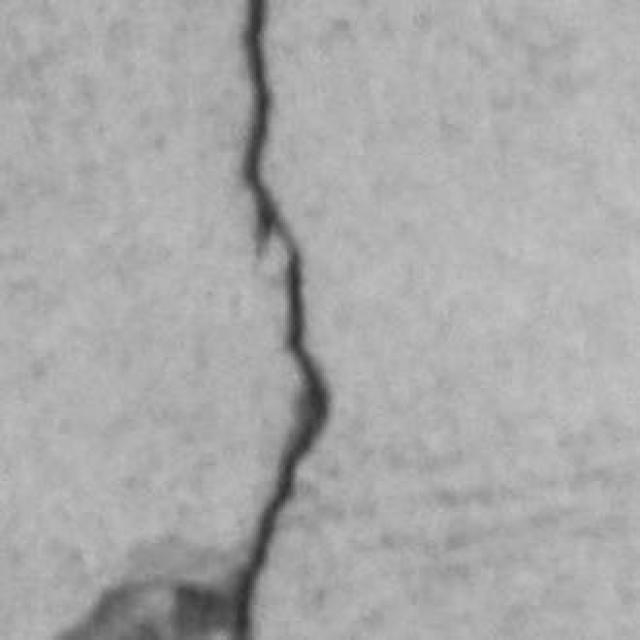crack: (57, 0, 329, 639), (231, 0, 329, 639)
